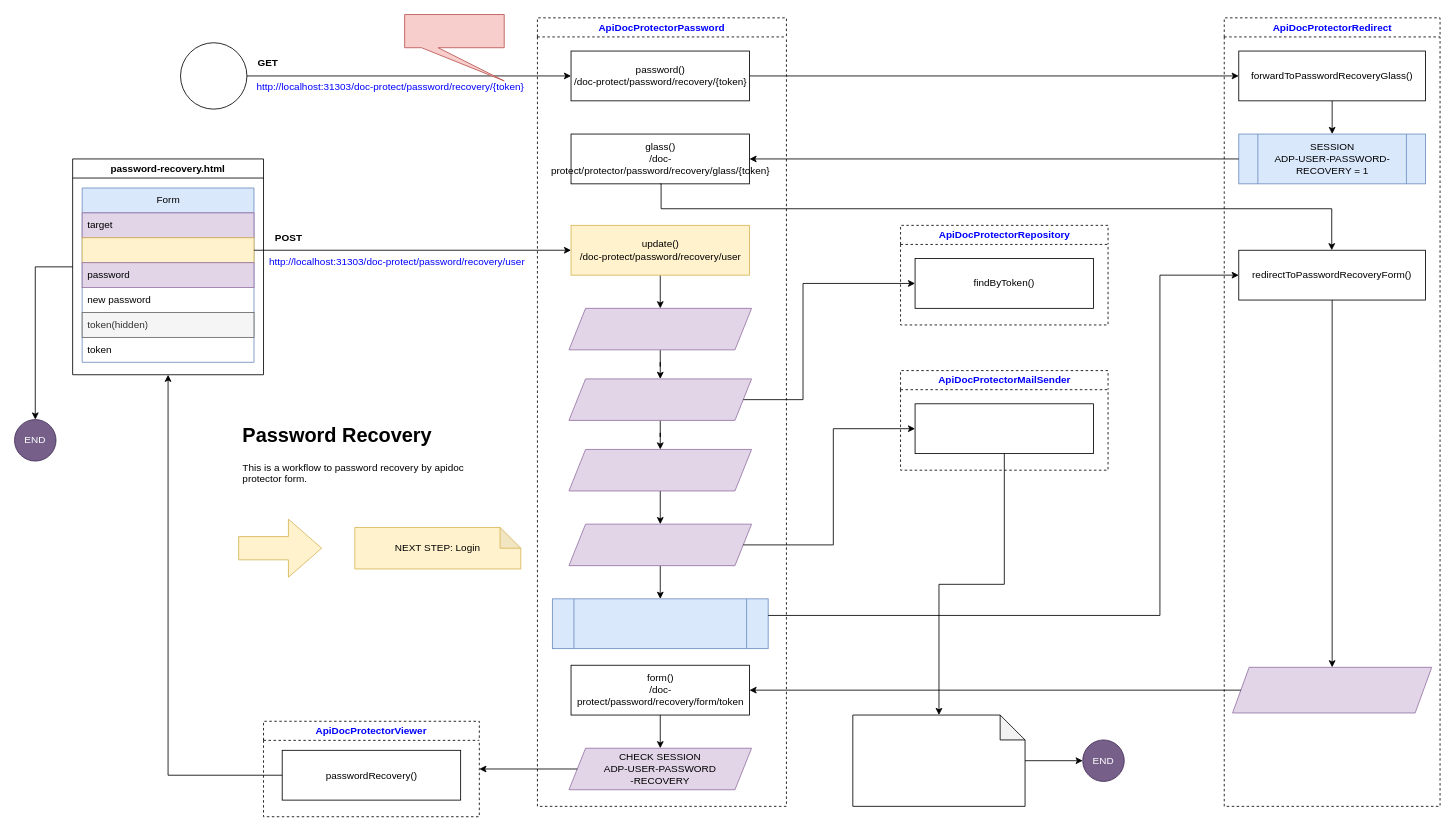
This 1455x832 diagram has some shape labels left out. Each missing label, with the centre of its shape:
CHECK SESSION ADP-USER-PASSWORD-RECOVERY: the point at 660,329
customUriUserPasswordRecovery: the point at 167,250
FIND USER BY TOKEN: the point at 660,399
MAIL TO PASSWORD CHANGED http://localhost:31303/doc-protect/login/{token}: the point at 938,760
MAIL TO USER: the point at 660,544
REDIRECT customUriPasswordRecovery (/form/token): the point at 1332,689
sendMail() mail/password-recovery.html: the point at 1004,428
SESSION ADP-ACCOUNT-PASSWORD-RECOVERY-SUCCESSFUL = 1: the point at 660,623
Token WIth MD5: the point at 454,47
USER PASSWORD UPDATE AND GET NEW TOKEN: the point at 660,470
USER REQUEST: the point at 213,75
